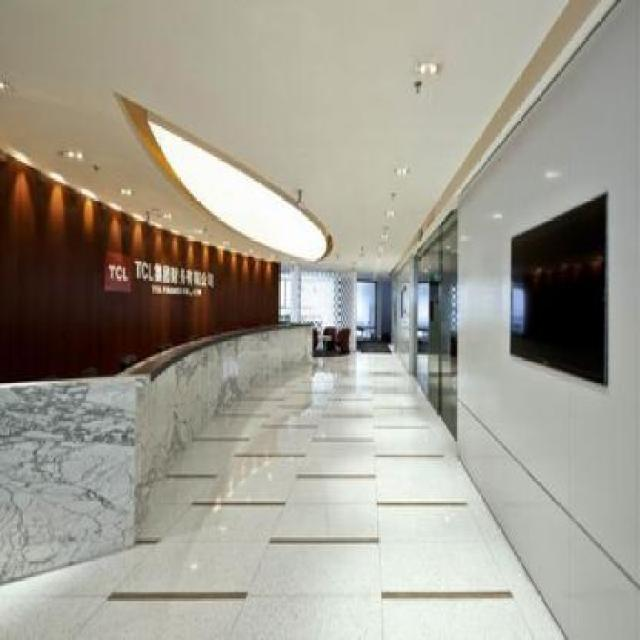frontdesk: (0, 305, 320, 592)
